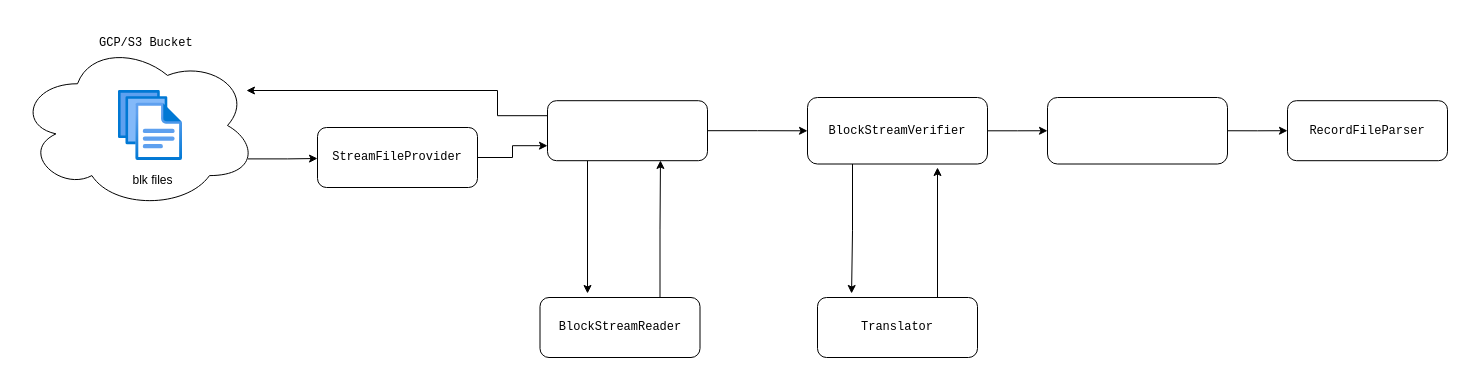
Some shapes in this 1465 by 375 pixel diagram are drawn without their labels. The centre of each missing label's shape, as x and y in pixels:
"BlockStreamPoller" belongs at point 627,130.
"StreamFileNotifier" belongs at point 1137,130.
